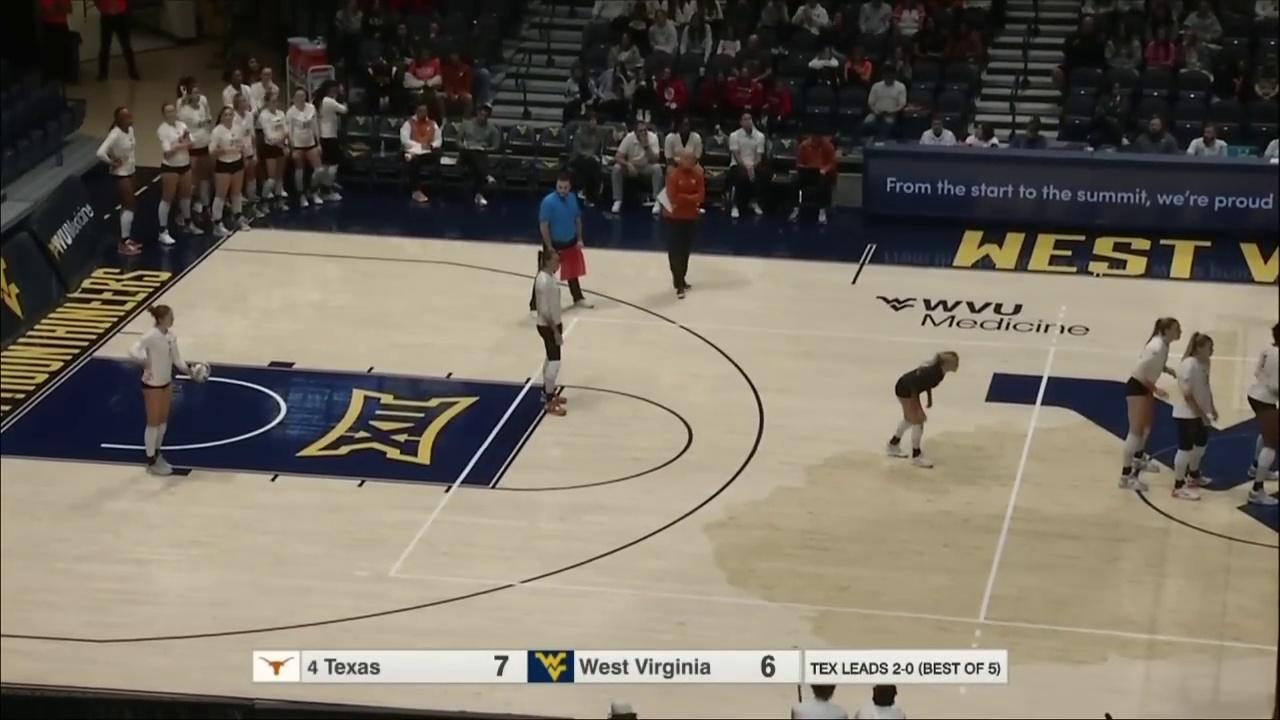player: (1118, 309, 1183, 497), (121, 300, 190, 477), (883, 344, 961, 476), (1173, 322, 1220, 500), (530, 249, 578, 419), (1243, 318, 1280, 509)
refree: (528, 169, 597, 321)
